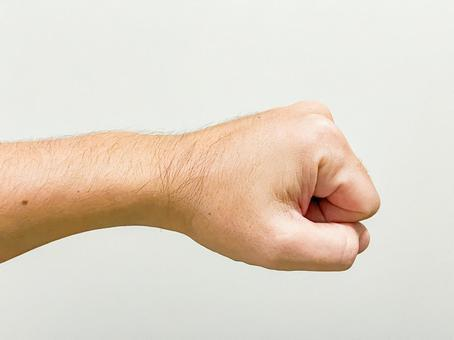rock: (168, 92, 400, 286)
